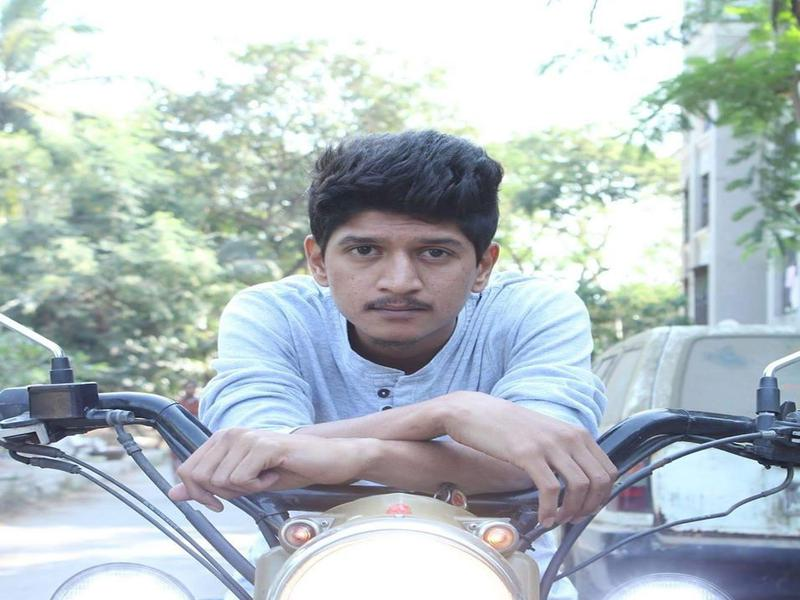without_mask: (325, 214, 472, 346)
